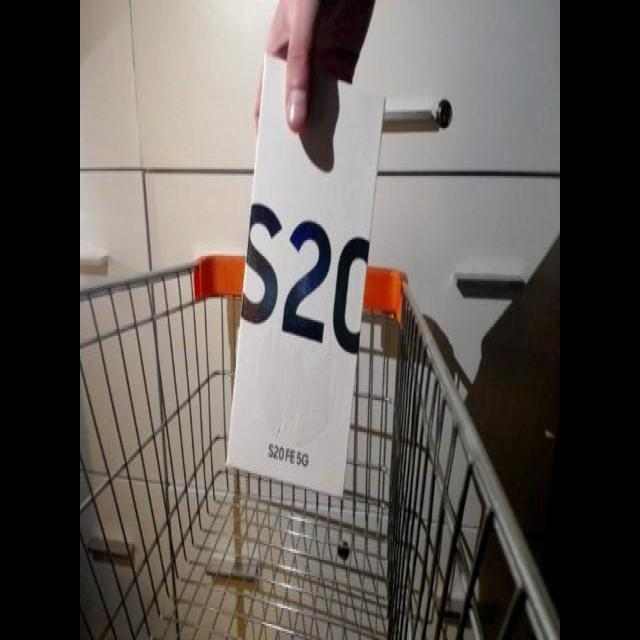Samsung S20: (222, 46, 393, 500)
